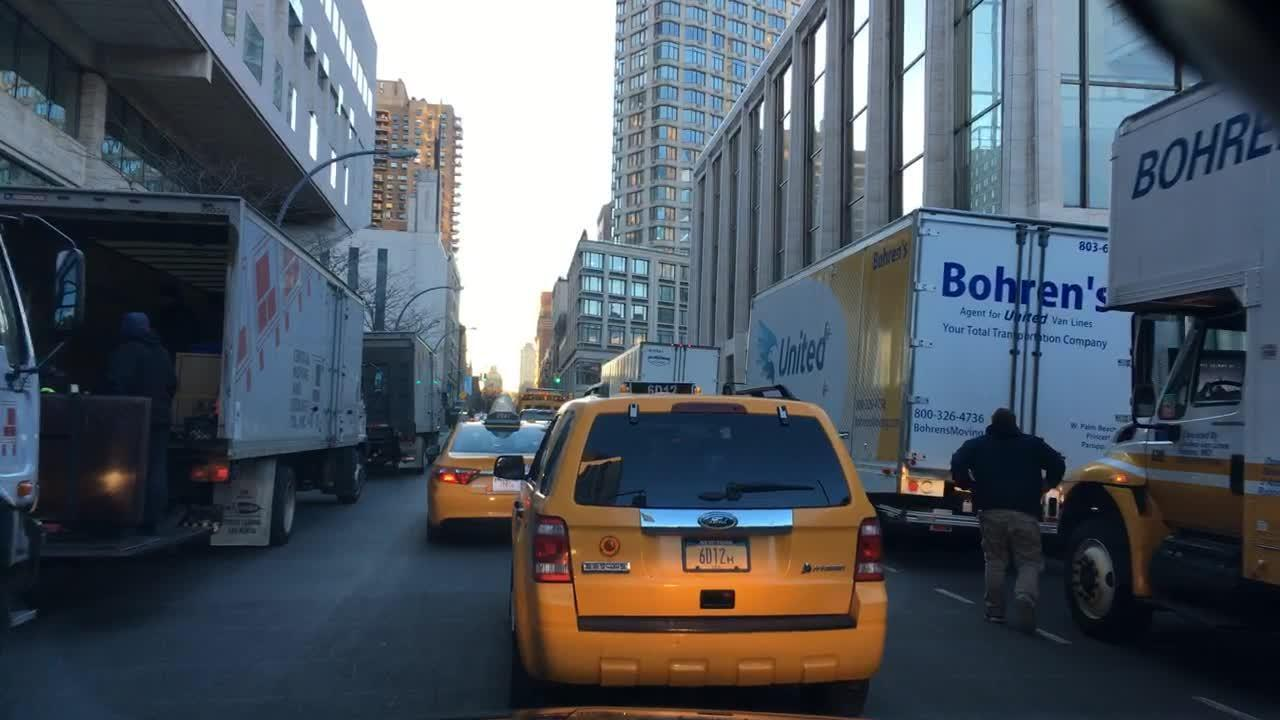ford: (689, 506, 744, 532)
